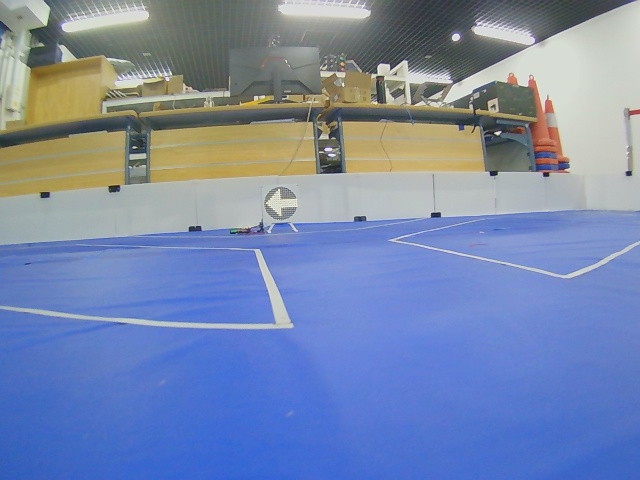left_yellow: (262, 185, 299, 223)
